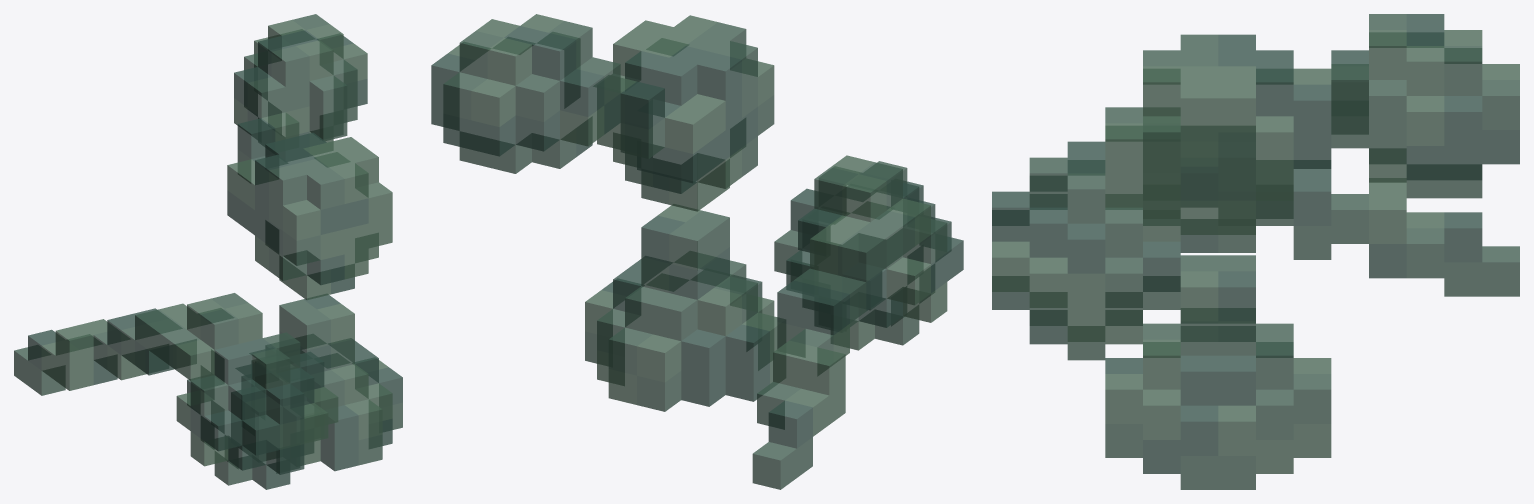
Rendered from alchemy_glass.gltf.
The picture shows the model from 3 angles, left to right: view 1: azimuth 30°, elevation 25°; view 2: azimuth 150°, elevation 25°; view 3: azimuth 270°, elevation 25°; orthographic projection. The views are drawn at different scales.
Parts seen in each view (by area): view 1: alchemy_glass; view 2: alchemy_glass; view 3: alchemy_glass.
Part boxes in pixels (x1=…): alchemy_glass: x1=14, y1=14, x2=402, y2=489; alchemy_glass: x1=431, y1=14, x2=963, y2=489; alchemy_glass: x1=992, y1=14, x2=1519, y2=489.
Bounding box in the file's own units: 1.3 × 1.3 × 1.4.
Materials: 1 (1 with a texture image).
